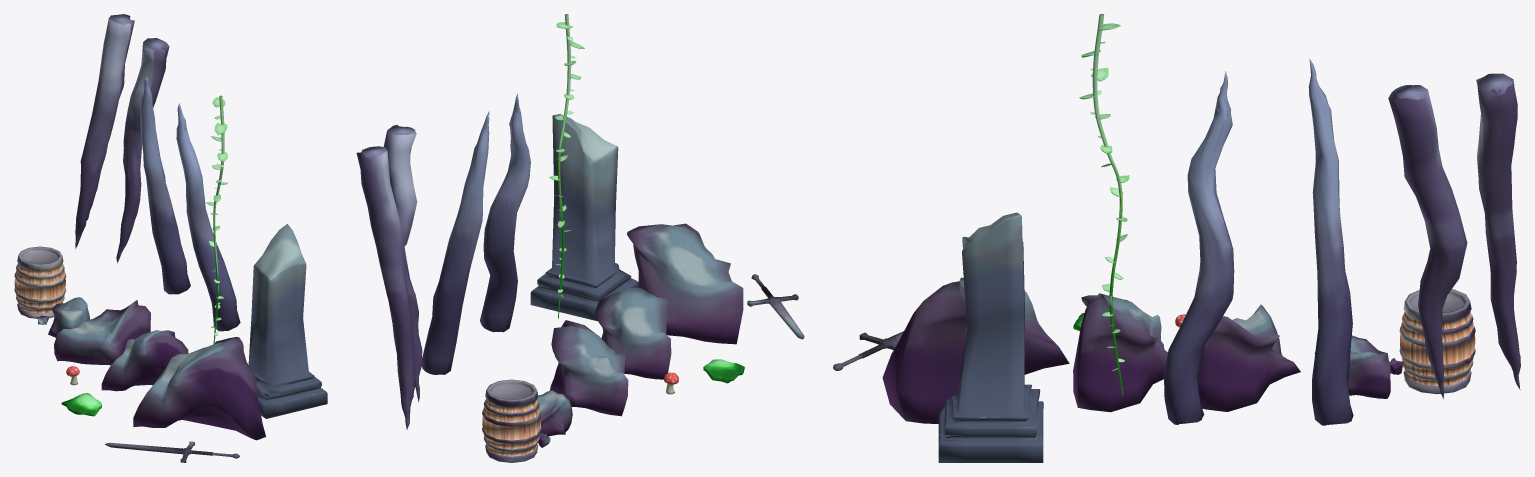
File: GameJam Objects.glb
3 renders of one model, left to right at view 1: azimuth 30°, elevation 25°; view 2: azimuth 150°, elevation 25°; view 3: azimuth 270°, elevation 25°, orthographic. The views are drawn at different scales.
Visible parts, largest first — view 1: Cube.001, Rock 2.004, Stalagmite 2.002, Stalagmite 2.004, Stalagmite 2.001, Rock 2.001, Stalagmite 2.003, Barrel, Rock 2.002, Vine, Rock 2, Cube (+1 smaller); view 2: Cube.001, Rock 2.004, Stalagmite 2.001, Stalagmite 2.002, Stalagmite 2.004, Rock 2.001, Rock 2.002, Barrel, Stalagmite 2.003, Vine, Rock 2, Cube (+1 smaller); view 3: Cube.001, Stalagmite 2.004, Stalagmite 2.001, Rock 2.004, Stalagmite 2.003, Stalagmite 2.002, Rock 2.002, Rock 2.001, Barrel, Vine, Rock 2, Cube.
Part boxes in pixels (<box>): Cube.001: <box>248,224,327,418</box>; Rock 2.004: <box>133,337,265,440</box>; Stalagmite 2.002: <box>75,14,134,249</box>; Stalagmite 2.004: <box>176,103,240,331</box>; Stalagmite 2.001: <box>140,77,190,294</box>; Rock 2.001: <box>54,300,150,365</box>; Stalagmite 2.003: <box>116,38,169,263</box>; Barrel: <box>14,246,66,318</box>; Rock 2.002: <box>101,330,188,391</box>; Vine: <box>206,95,227,343</box>; Rock 2: <box>48,297,89,337</box>; Cube: <box>105,441,239,462</box>; Cube.001: <box>530,114,638,321</box>; Rock 2.004: <box>627,223,743,344</box>; Stalagmite 2.001: <box>421,111,489,374</box>; Stalagmite 2.002: <box>356,146,414,429</box>; Stalagmite 2.004: <box>480,93,530,332</box>; Rock 2.001: <box>549,320,628,416</box>; Rock 2.002: <box>595,287,671,379</box>; Barrel: <box>482,379,541,462</box>; Stalagmite 2.003: <box>383,124,422,402</box>; Vine: <box>549,14,584,318</box>; Rock 2: <box>537,390,572,436</box>; Cube: <box>747,274,804,339</box>; Cube.001: <box>938,212,1043,462</box>; Stalagmite 2.004: <box>1163,71,1234,424</box>; Stalagmite 2.001: <box>1308,58,1353,425</box>; Rock 2.004: <box>882,277,1069,423</box>; Stalagmite 2.003: <box>1388,85,1467,399</box>; Stalagmite 2.002: <box>1476,73,1520,389</box>; Rock 2.002: <box>1073,293,1167,412</box>; Rock 2.001: <box>1198,304,1300,411</box>; Barrel: <box>1399,289,1475,394</box>; Vine: <box>1079,14,1129,395</box>; Rock 2: <box>1314,335,1390,398</box>; Cube: <box>833,331,903,370</box>.
Bounding box in the file's own units: 6.91 × 8.94 × 13.17.
11 materials, 11 textured.
